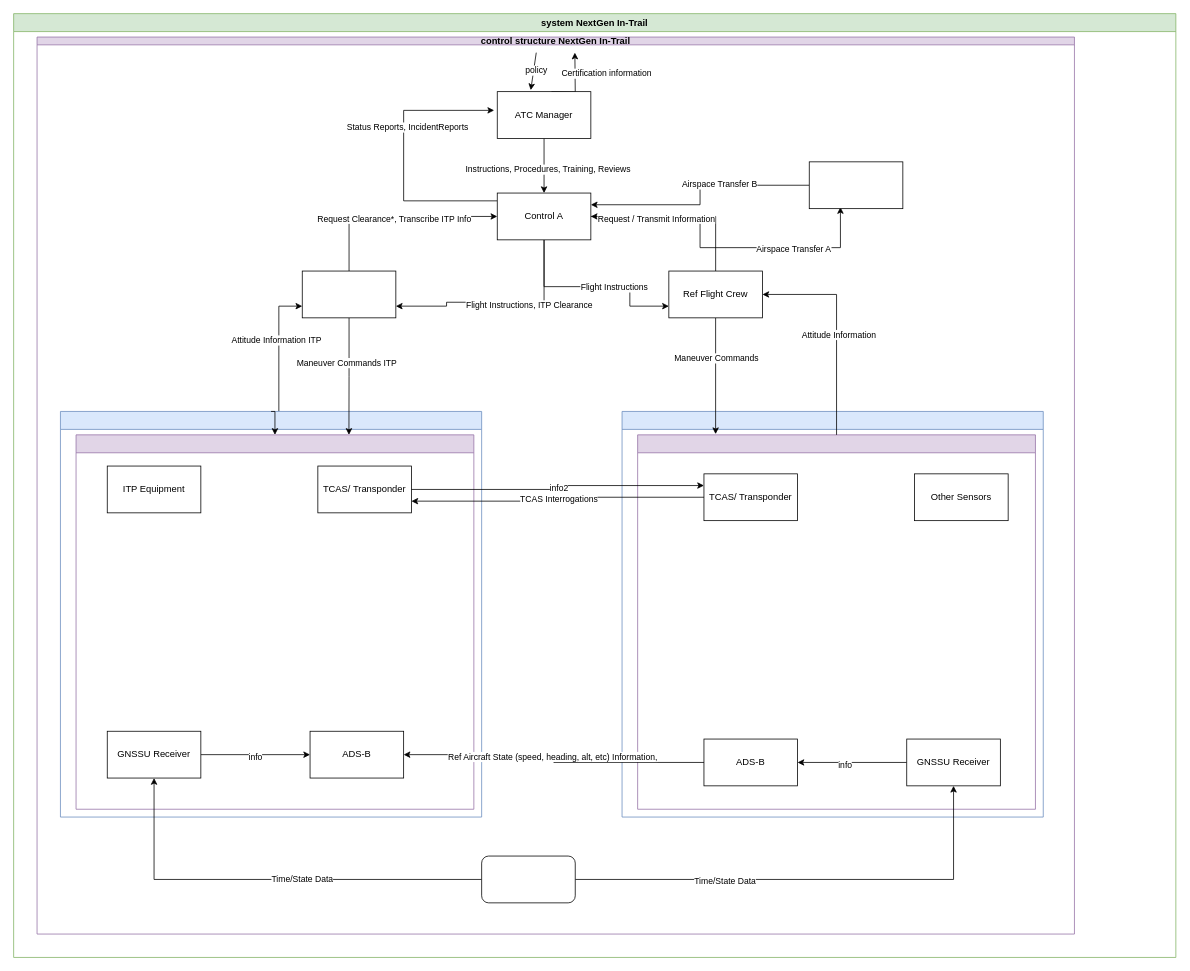
Image size: 1190x971. Some labels were removed from this diagram. Each missing label, with the box of its shape:
Control B: (808, 161, 903, 209)
control structure ITP Aircraft: (75, 434, 474, 809)
control structure Reference Aircraft**: (637, 434, 1035, 809)
GPS Constellation: (481, 855, 575, 903)
ITP Flight Crew: (301, 270, 396, 318)
subsystem ITP Aircraft: (60, 411, 482, 817)
subsystem Reference Aircraft**: (621, 411, 1043, 817)
